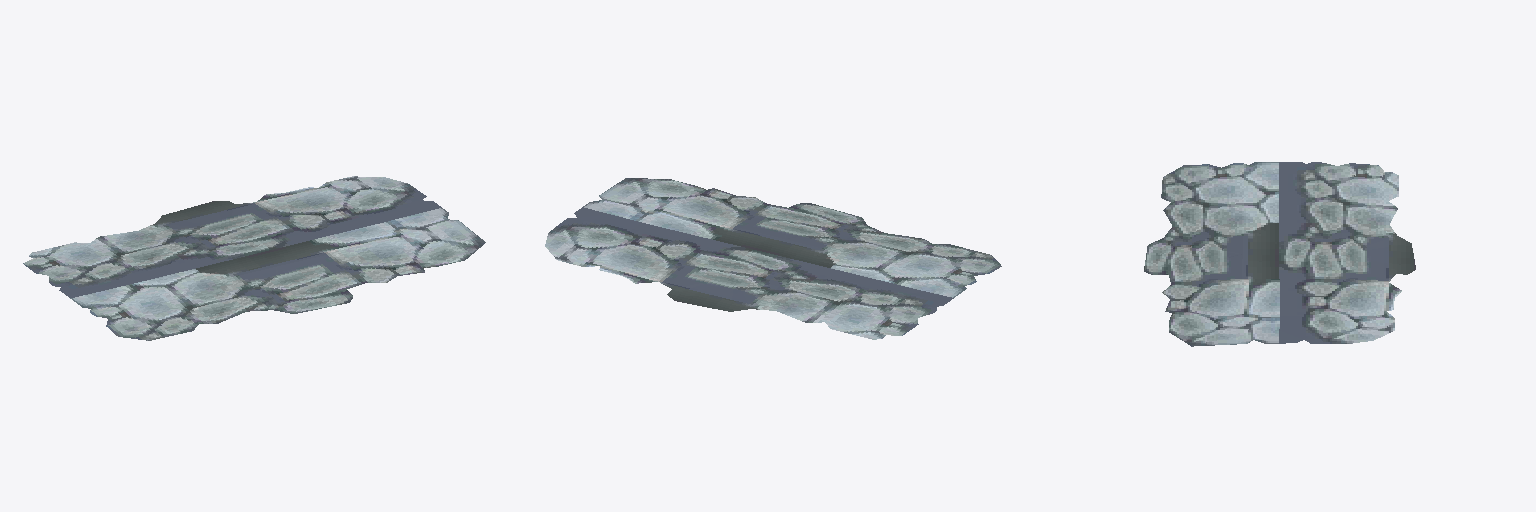
3 views of the same model, side by side, from view 1: azimuth 30°, elevation 25°; view 2: azimuth 150°, elevation 25°; view 3: azimuth 270°, elevation 25° (orthographic).
Visible parts, largest first — view 1: vsn_mesh_0__mesh_0_.004; view 2: vsn_mesh_0__mesh_0_.004; view 3: vsn_mesh_0__mesh_0_.004.
Boxes of the visible parts, x1,y1,x2,y2 form: vsn_mesh_0__mesh_0_.004: [23, 176, 485, 340]; vsn_mesh_0__mesh_0_.004: [545, 178, 1001, 339]; vsn_mesh_0__mesh_0_.004: [1144, 162, 1415, 346].
Bounding box in the file's own units: 1.39 × 0.0235 × 0.8788.
1 materials, 1 textured.